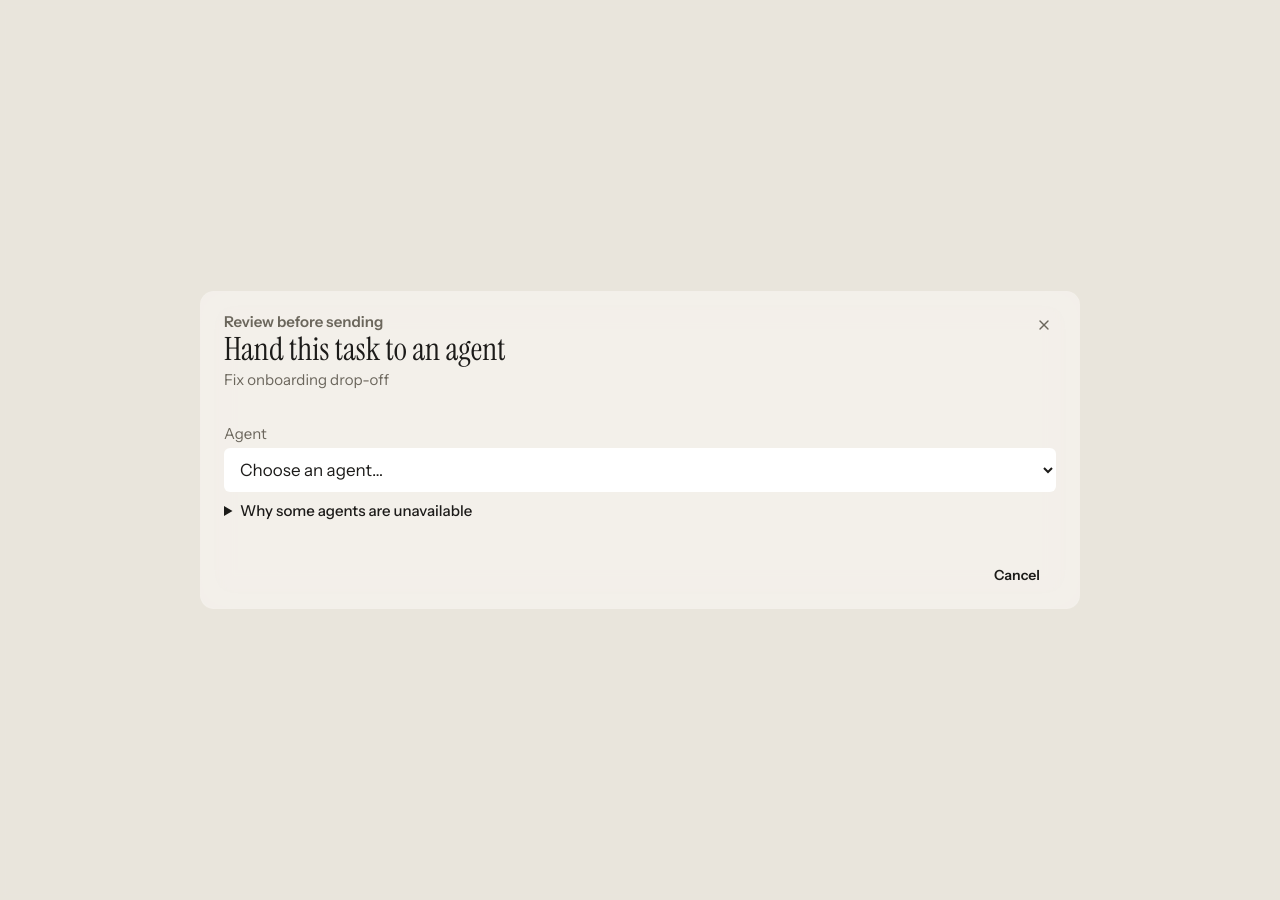
Scenario: AgentHandoffOverlay › offers only tested connections and explains why the others cannot be used
The image size is (1280, 900).
Click the heading "Why some agents are unavailable" at (356, 510), box [240,501,472,520]
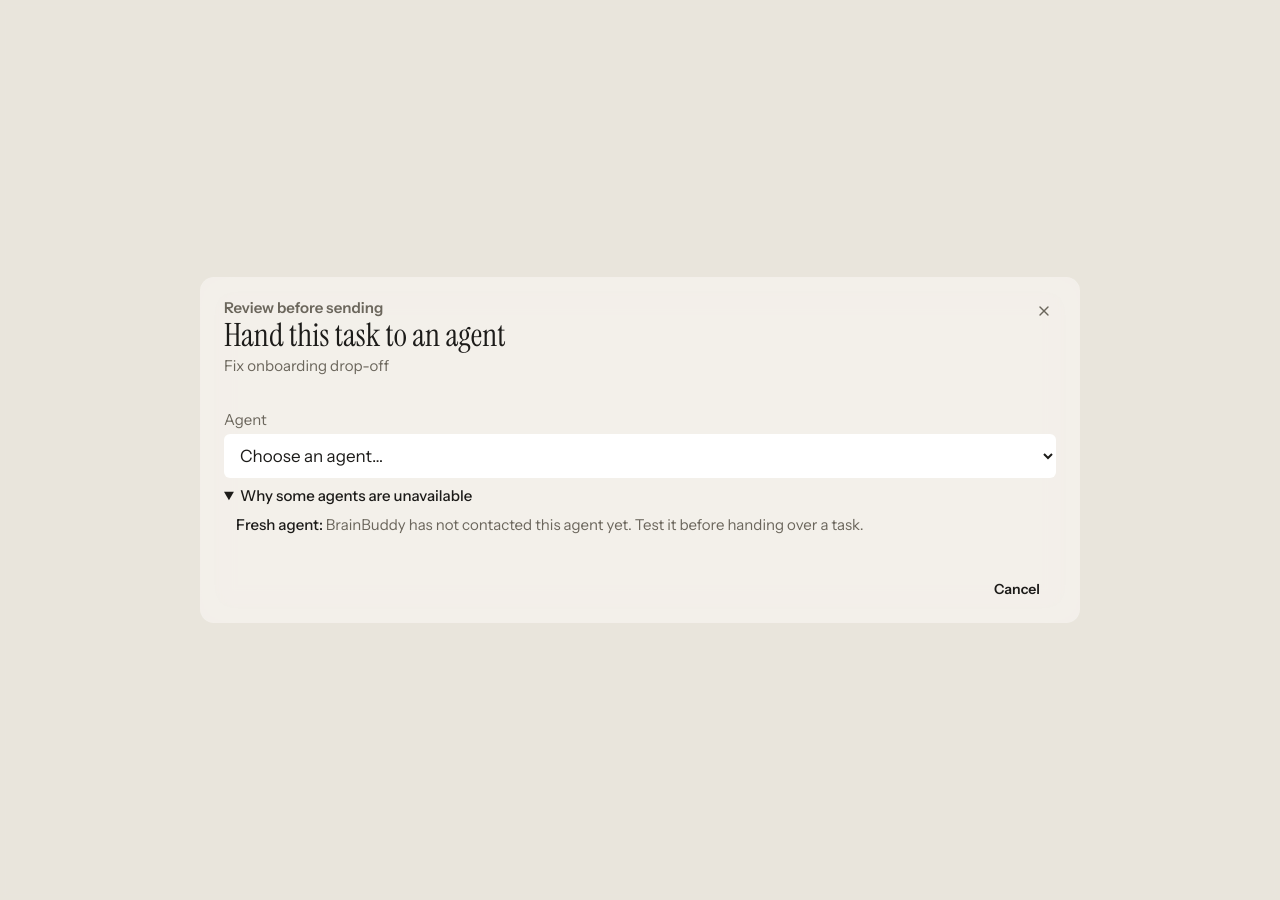
Check: the list item "has not contacted this agent yet" is shown, box [326,515,864,534]
